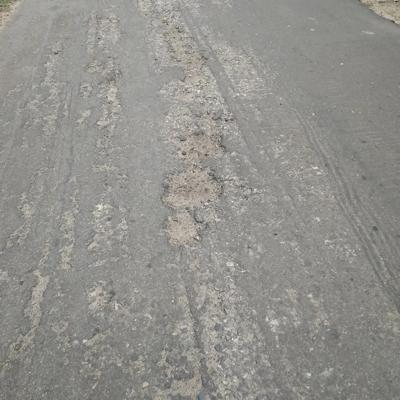Pothole: (140, 10, 252, 259)
